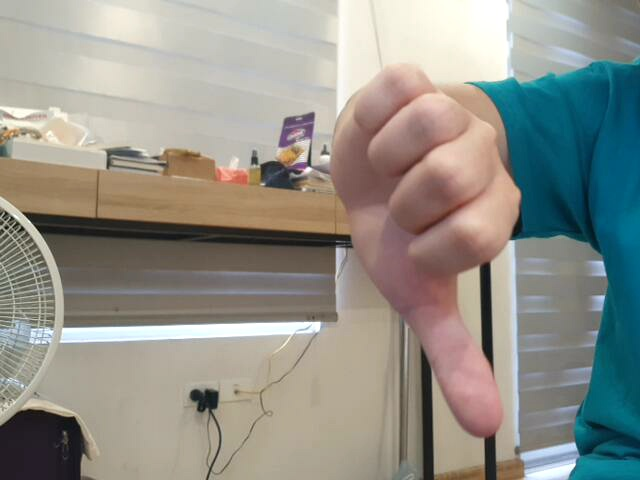ThumbsDown: (327, 60, 526, 442)
